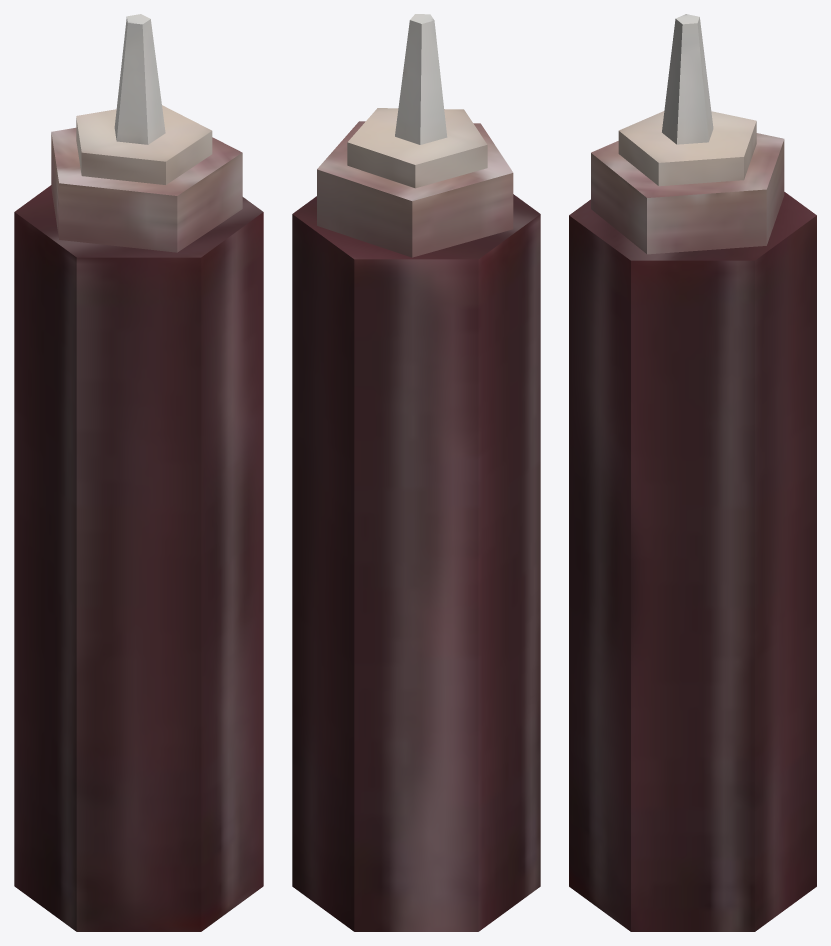
Rendered from Ketchup.dae.
The picture shows the model from 3 angles, left to right: view 1: azimuth 30°, elevation 25°; view 2: azimuth 150°, elevation 25°; view 3: azimuth 270°, elevation 25°; orthographic projection.
Visible parts, largest first — view 1: Ketchup; view 2: Ketchup; view 3: Ketchup.
Boxes of the visible parts, box(x1,y1,x2,y2) form: Ketchup: box(14, 14, 263, 931); Ketchup: box(292, 14, 540, 931); Ketchup: box(569, 14, 816, 931).
Size of the model in its own units: 0.0645 by 0.0744 by 0.2868.
1 material, 1 textured.
